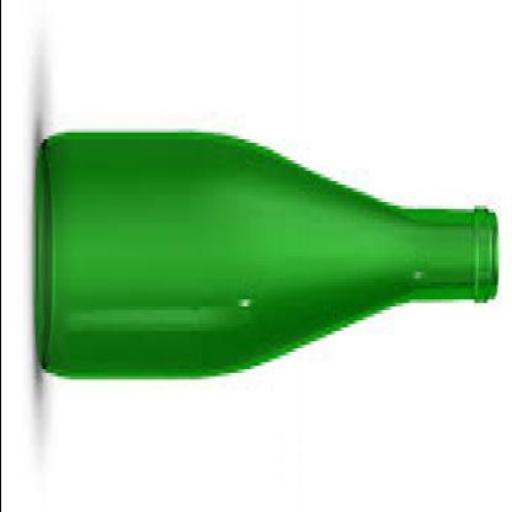glass: (34, 132, 500, 373)
